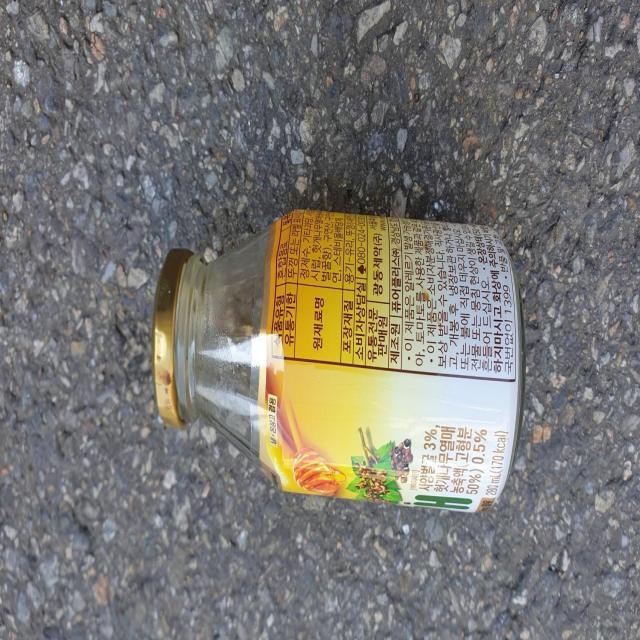glass: (152, 209, 525, 512)
